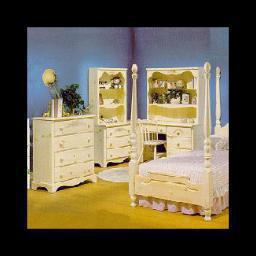Armario: (140, 66, 200, 153), (31, 117, 92, 193), (97, 71, 127, 166)
